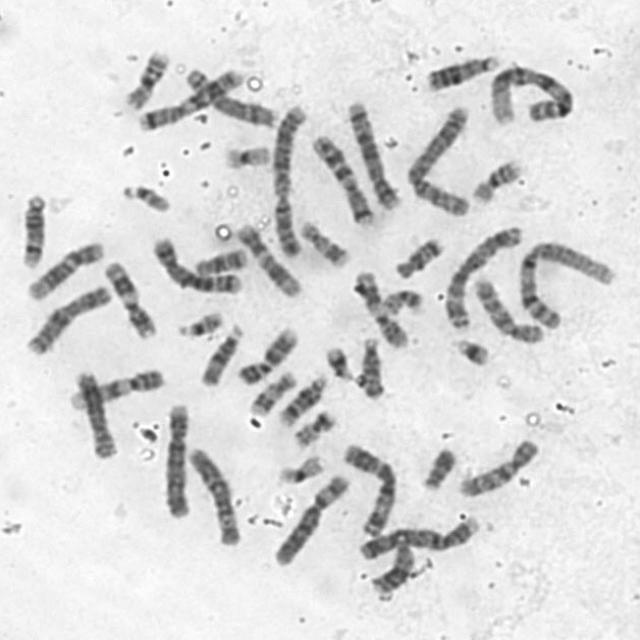A1: (512, 234, 616, 331), (485, 61, 577, 126)
A2: (401, 102, 475, 217), (268, 98, 310, 261)
A3: (440, 222, 525, 331), (338, 439, 398, 538)
B4: (355, 512, 481, 561), (160, 398, 192, 519)
B5: (344, 96, 402, 212), (148, 233, 245, 297)
C10: (455, 435, 541, 500), (470, 276, 543, 344)
C11: (101, 258, 159, 342), (352, 268, 411, 350)
C12: (232, 219, 304, 300), (23, 237, 105, 302)
C6: (270, 471, 352, 568), (185, 442, 242, 549)
C7: (133, 66, 244, 132), (309, 131, 377, 227)
C8: (182, 64, 282, 132), (70, 366, 118, 461)
C9: (65, 364, 166, 412), (234, 324, 300, 387)
D13: (422, 50, 502, 92), (368, 532, 420, 596)
D14: (275, 371, 329, 428), (16, 190, 47, 270)
D15: (197, 320, 244, 388), (357, 333, 387, 402)
E16: (121, 46, 170, 110), (468, 156, 526, 206)
E17: (296, 216, 352, 271), (246, 368, 298, 418)
E18: (392, 234, 446, 282), (190, 245, 250, 279)
F19: (273, 451, 326, 487), (219, 140, 272, 172)
F20: (290, 407, 340, 450), (380, 286, 426, 316)
G21: (322, 342, 356, 383), (450, 335, 492, 368)
G22: (119, 181, 172, 214), (174, 308, 225, 338)
X: (22, 282, 113, 357)
Y: (418, 443, 458, 492)
